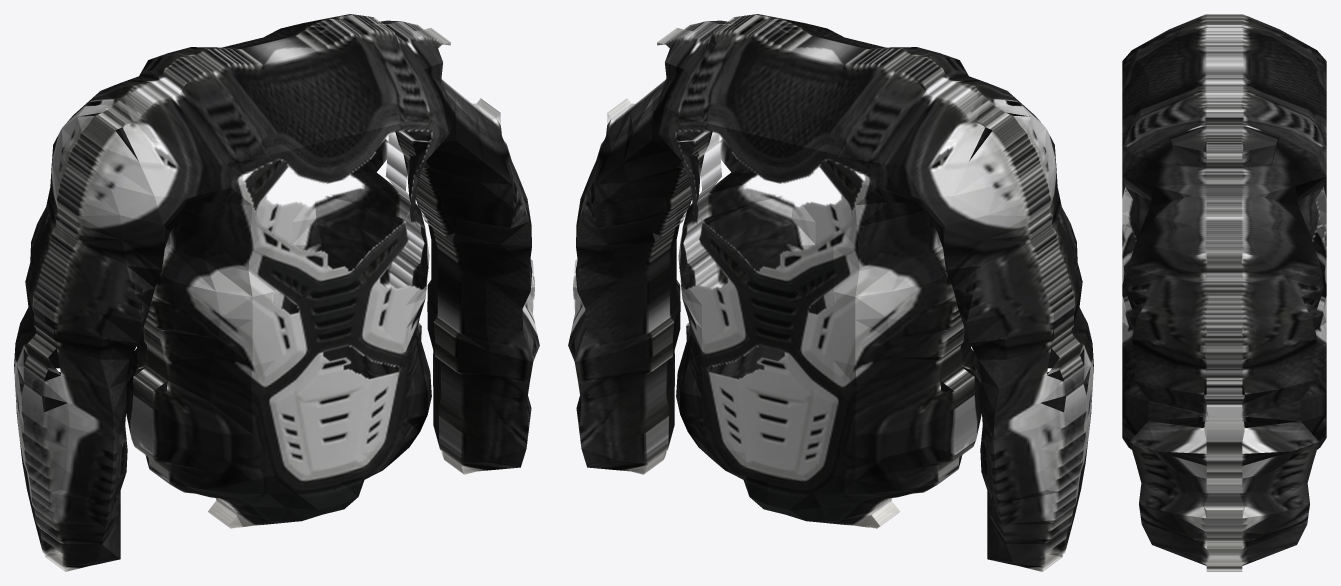
File: alpinestars-nomad-body-armor-177.glb
The picture shows the model from 3 angles, left to right: view 1: azimuth 30°, elevation 25°; view 2: azimuth 150°, elevation 25°; view 3: azimuth 270°, elevation 25°; orthographic projection. The views are drawn at different scales.
Parts seen in each view (by area): view 1: world; view 2: world; view 3: world.
Boxes of the visible parts, bbox=[...] form: world: bbox=[14, 14, 539, 571]; world: bbox=[568, 14, 1093, 571]; world: bbox=[1122, 14, 1326, 571].
Size of the model in its own units: 1 by 0.911 by 0.4.
Materials: 1 (1 with a texture image).
